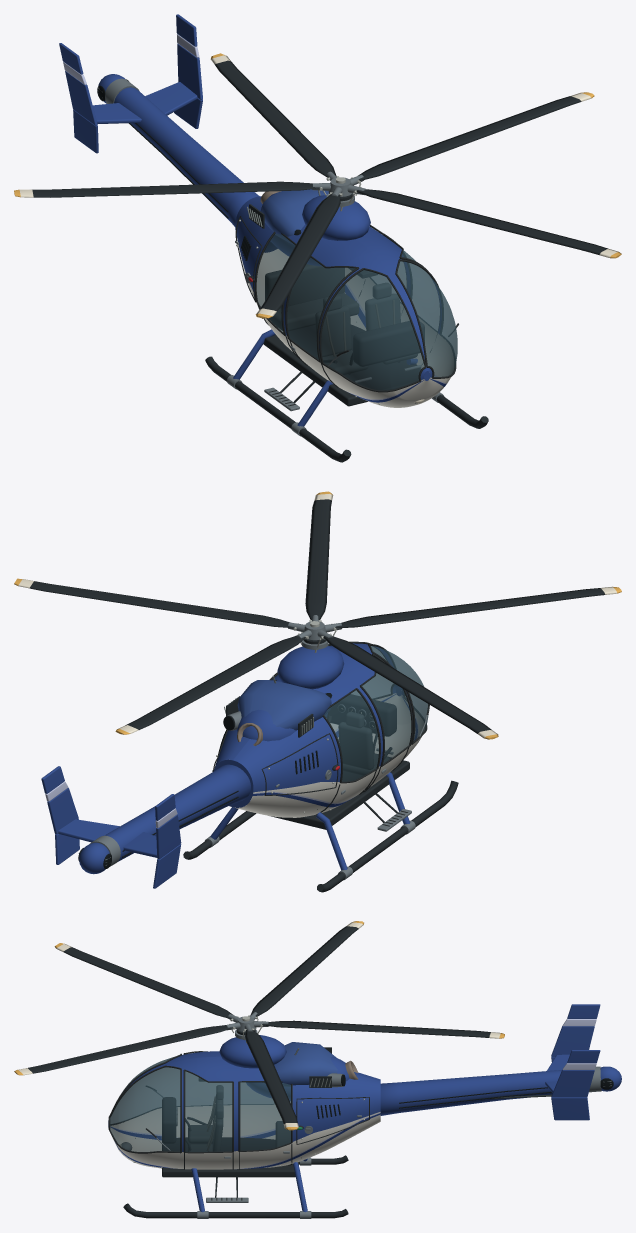
3 views of the same model, one above another, from view 1: azimuth 30°, elevation 25°; view 2: azimuth 150°, elevation 25°; view 3: azimuth 270°, elevation 25° (orthographic). The views are drawn at different scales.
Parts seen in each view (by area): view 1: Airframe | surfaces, MainRotor | surfaces, Cabin and instruments | surfaces, Boom and stabilizers | surfaces, Landing gear | surfaces, MD520 fitted exterior, Powerplant and transmission | surfaces; view 2: Airframe | surfaces, MainRotor | surfaces, Boom and stabilizers | surfaces, Cabin and instruments | surfaces, Powerplant and transmission | surfaces, MD520 fitted exterior, Landing gear | surfaces; view 3: Airframe | surfaces, Boom and stabilizers | surfaces, MainRotor | surfaces, Cabin and instruments | surfaces, Landing gear | surfaces, MD520 fitted exterior, Powerplant and transmission | surfaces.
Boxes of the visible parts, x1,y1,x2,y2 form: Airframe | surfaces: (235,190,458,407); MainRotor | surfaces: (14,53,621,318); Cabin and instruments | surfaces: (263,264,424,406); Boom and stabilizers | surfaces: (59,14,277,252); Landing gear | surfaces: (205,329,488,462); MD520 fitted exterior: (247,189,328,244); Powerplant and transmission | surfaces: (260,191,370,265); Airframe | surfaces: (212,641,429,817); MainRotor | surfaces: (14,491,621,739); Boom and stabilizers | surfaces: (41,764,250,888); Cabin and instruments | surfaces: (271,694,409,829); Powerplant and transmission | surfaces: (223,639,344,741); MD520 fitted exterior: (224,680,331,745); Landing gear | surfaces: (183,772,458,892); Airframe | surfaces: (108,1048,380,1169); Boom and stabilizers | surfaces: (380,1004,621,1120); MainRotor | surfaces: (14,921,504,1130); Cabin and instruments | surfaces: (162,1078,301,1177); Landing gear | surfaces: (123,1155,348,1218); MD520 fitted exterior: (274,1042,551,1098); Powerplant and transmission | surfaces: (219,1029,349,1101).
Bounding box in the file's own units: 7.9 × 3.07 × 9.71.
